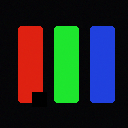1 square: (32, 92, 46, 106)
